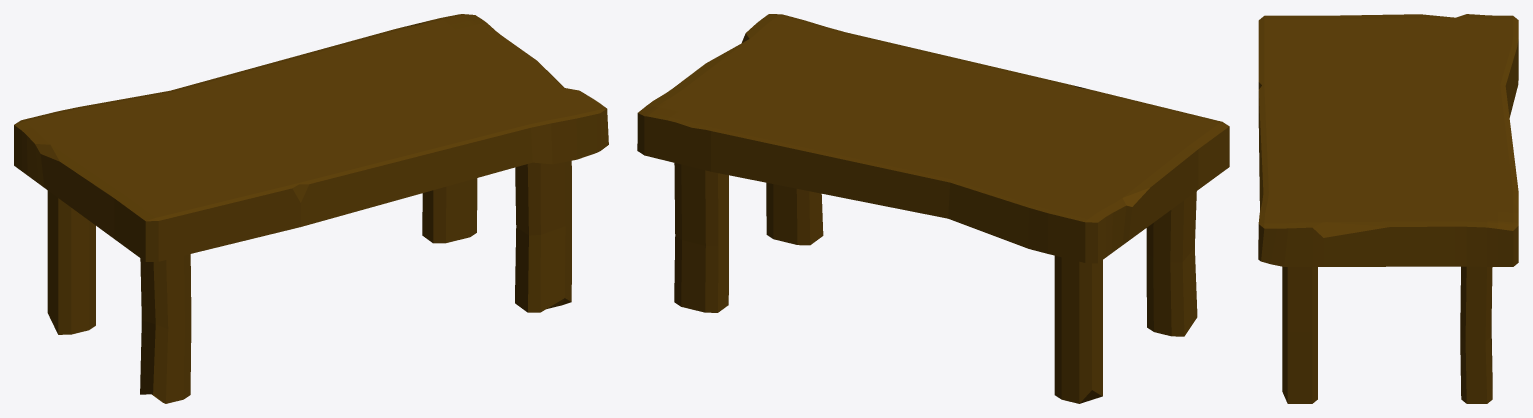
File: Table_rectangular.fbx
The picture shows the model from 3 angles, left to right: view 1: azimuth 30°, elevation 25°; view 2: azimuth 150°, elevation 25°; view 3: azimuth 270°, elevation 25°; orthographic projection. The views are drawn at different scales.
Visible parts, largest first — view 1: Wooden_Table; view 2: Wooden_Table; view 3: Wooden_Table.
Boxes of the visible parts, x1,y1,x2,y2 form: Wooden_Table: (14, 14, 608, 403); Wooden_Table: (637, 14, 1229, 403); Wooden_Table: (1258, 14, 1518, 403).
Bounding box in the file's own units: 356 × 145 × 183.
